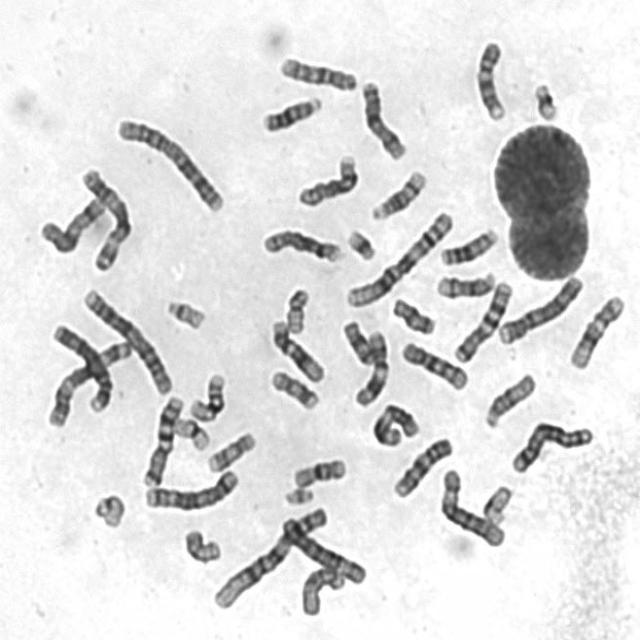A1: (212, 506, 330, 610), (344, 210, 456, 309)
A2: (112, 116, 225, 214), (85, 288, 174, 396)
A3: (47, 340, 133, 427), (81, 166, 134, 272)
B4: (497, 274, 586, 346), (50, 323, 114, 412)
B5: (512, 421, 594, 473), (144, 469, 243, 511)
C10: (401, 339, 470, 393), (279, 56, 358, 93)
C11: (353, 330, 389, 406), (373, 402, 420, 447)
C12: (569, 292, 626, 370), (269, 318, 326, 384)
C6: (281, 514, 368, 586), (438, 469, 506, 548)
C7: (453, 279, 514, 366), (143, 392, 187, 487)
C8: (296, 155, 361, 210), (262, 228, 344, 266)
C9: (393, 436, 454, 499), (474, 41, 506, 126)
D13: (439, 228, 501, 268), (261, 94, 323, 133)
D14: (371, 167, 429, 222), (436, 270, 496, 300)
D15: (484, 373, 538, 428), (301, 567, 345, 617)
E16: (190, 374, 228, 424), (294, 457, 348, 488)
E17: (207, 431, 261, 473), (271, 370, 321, 410)
E18: (391, 297, 437, 335), (340, 318, 376, 366)
F19: (482, 484, 514, 526), (173, 416, 209, 451)
F20: (185, 525, 222, 565), (287, 288, 310, 336)
G21: (533, 81, 559, 122), (346, 228, 376, 263)
G22: (166, 297, 207, 332), (92, 492, 125, 528)
X: (39, 197, 106, 254), (360, 81, 407, 159)
Y: (283, 487, 314, 506)
